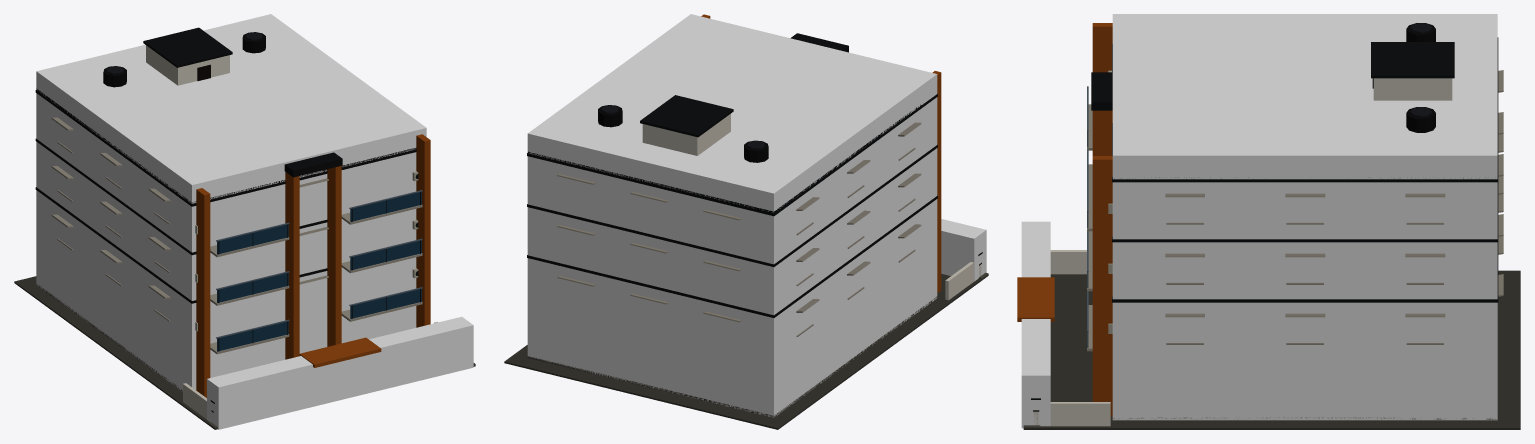
The model's file is B07_apt_midrise.glb.
The picture shows the model from 3 angles, left to right: view 1: azimuth 30°, elevation 25°; view 2: azimuth 150°, elevation 25°; view 3: azimuth 270°, elevation 25°; orthographic projection. The views are drawn at different scales.
Visible parts, largest first — view 1: COL_Main, LOD0, COL_Compound; view 2: COL_Main, LOD0, COL_Compound; view 3: COL_Main, LOD0, COL_Compound.
Part boxes in pixels (x1,y1,x2,y2): COL_Main: (36, 14, 426, 391); LOD0: (14, 27, 475, 429); COL_Compound: (207, 316, 473, 429); COL_Main: (527, 14, 937, 417); LOD0: (504, 14, 988, 429); COL_Compound: (941, 219, 986, 281); COL_Main: (1112, 14, 1497, 420); LOD0: (1017, 23, 1520, 429); COL_Compound: (1021, 221, 1050, 428).
Size of what is drawn, in the model's own units: 18 by 15.59 by 24.3.
